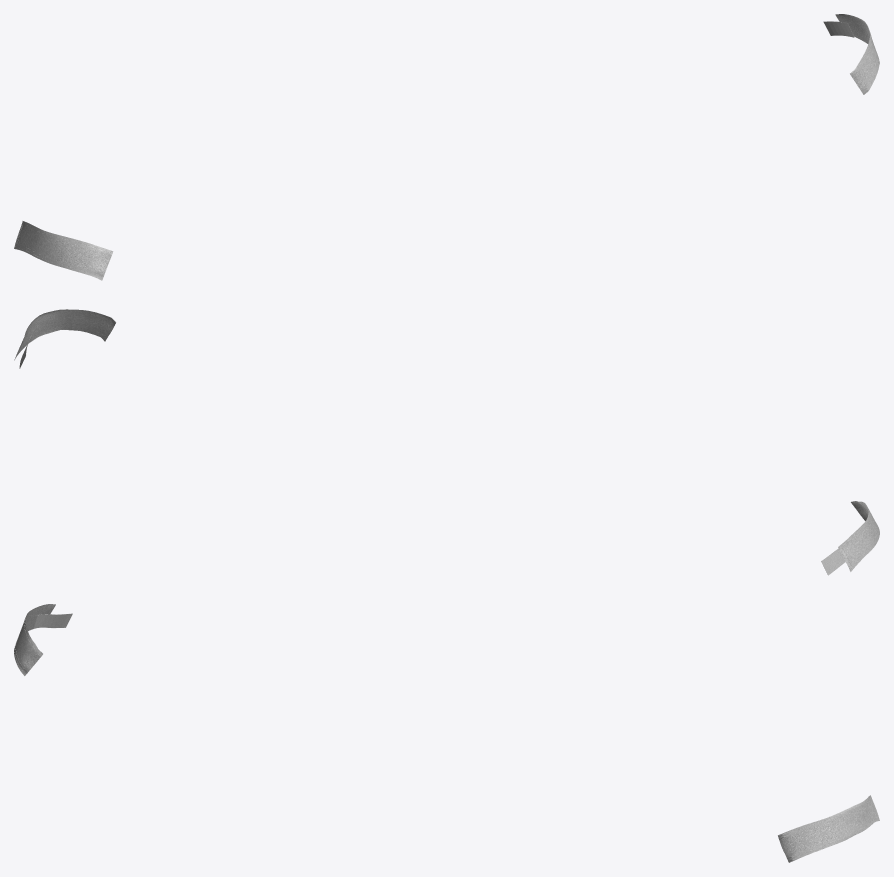
Rendered from Strap_Hands.glb.
The picture shows the model from 3 angles, top to bottom: view 1: azimuth 30°, elevation 25°; view 2: azimuth 150°, elevation 25°; view 3: azimuth 330°, elevation 25°; orthographic projection.
Visible parts, largest first — view 1: Strap_Hands1, Rope1; view 2: Strap_Hands1; view 3: Strap_Hands1, Rope1.
Boxes of the visible parts, bbox=[...] form: Strap_Hands1: bbox=[14, 14, 879, 280]; Rope1: bbox=[14, 27, 879, 279]; Strap_Hands1: bbox=[14, 309, 879, 571]; Strap_Hands1: bbox=[14, 604, 879, 862]; Rope1: bbox=[14, 617, 879, 861].
Size of the model in its own units: 1.84 by 0.0879 by 0.2364.
Materials: 3 (3 with a texture image).
